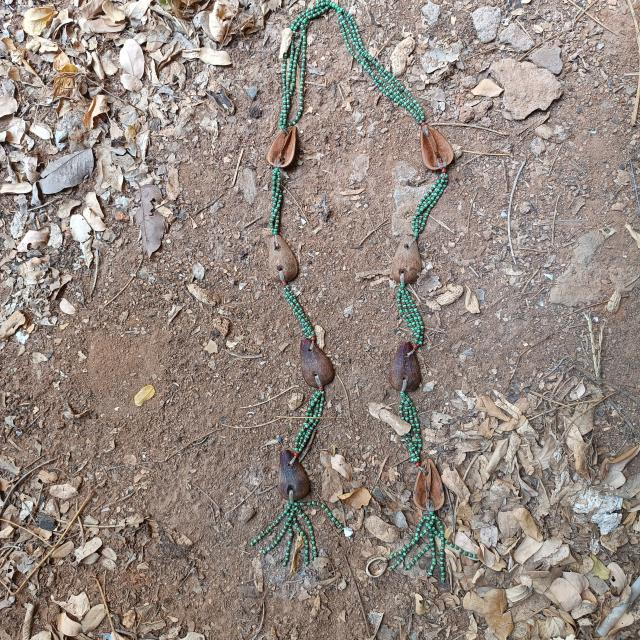facedown: (294, 332, 338, 394), (275, 444, 313, 507), (388, 230, 426, 291), (388, 336, 424, 400), (265, 231, 302, 287)
faceup: (416, 119, 462, 175), (411, 455, 448, 514), (265, 120, 302, 175)
